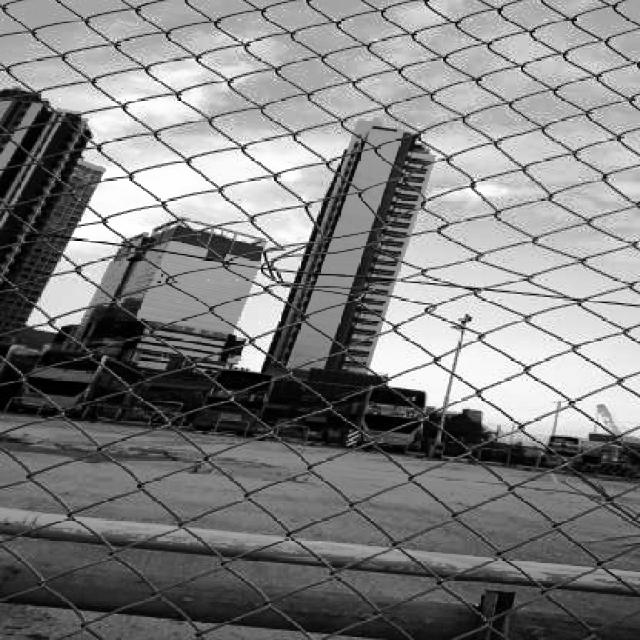fences: (38, 10, 640, 621)
